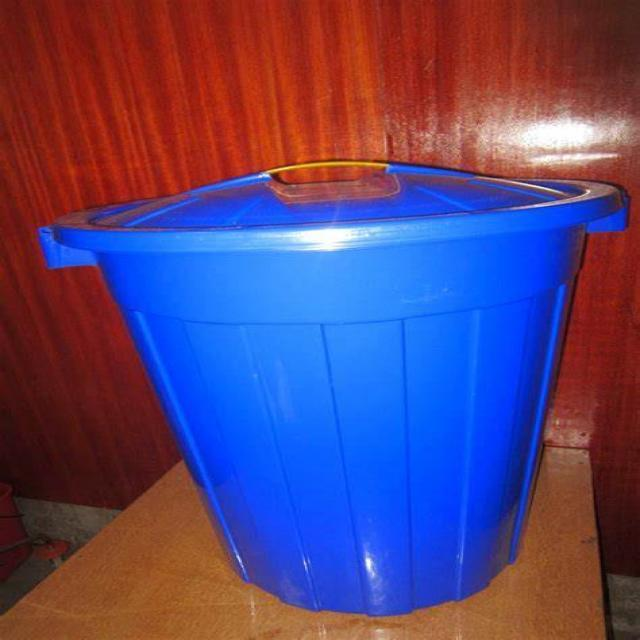garbage container: (21, 133, 640, 619)
